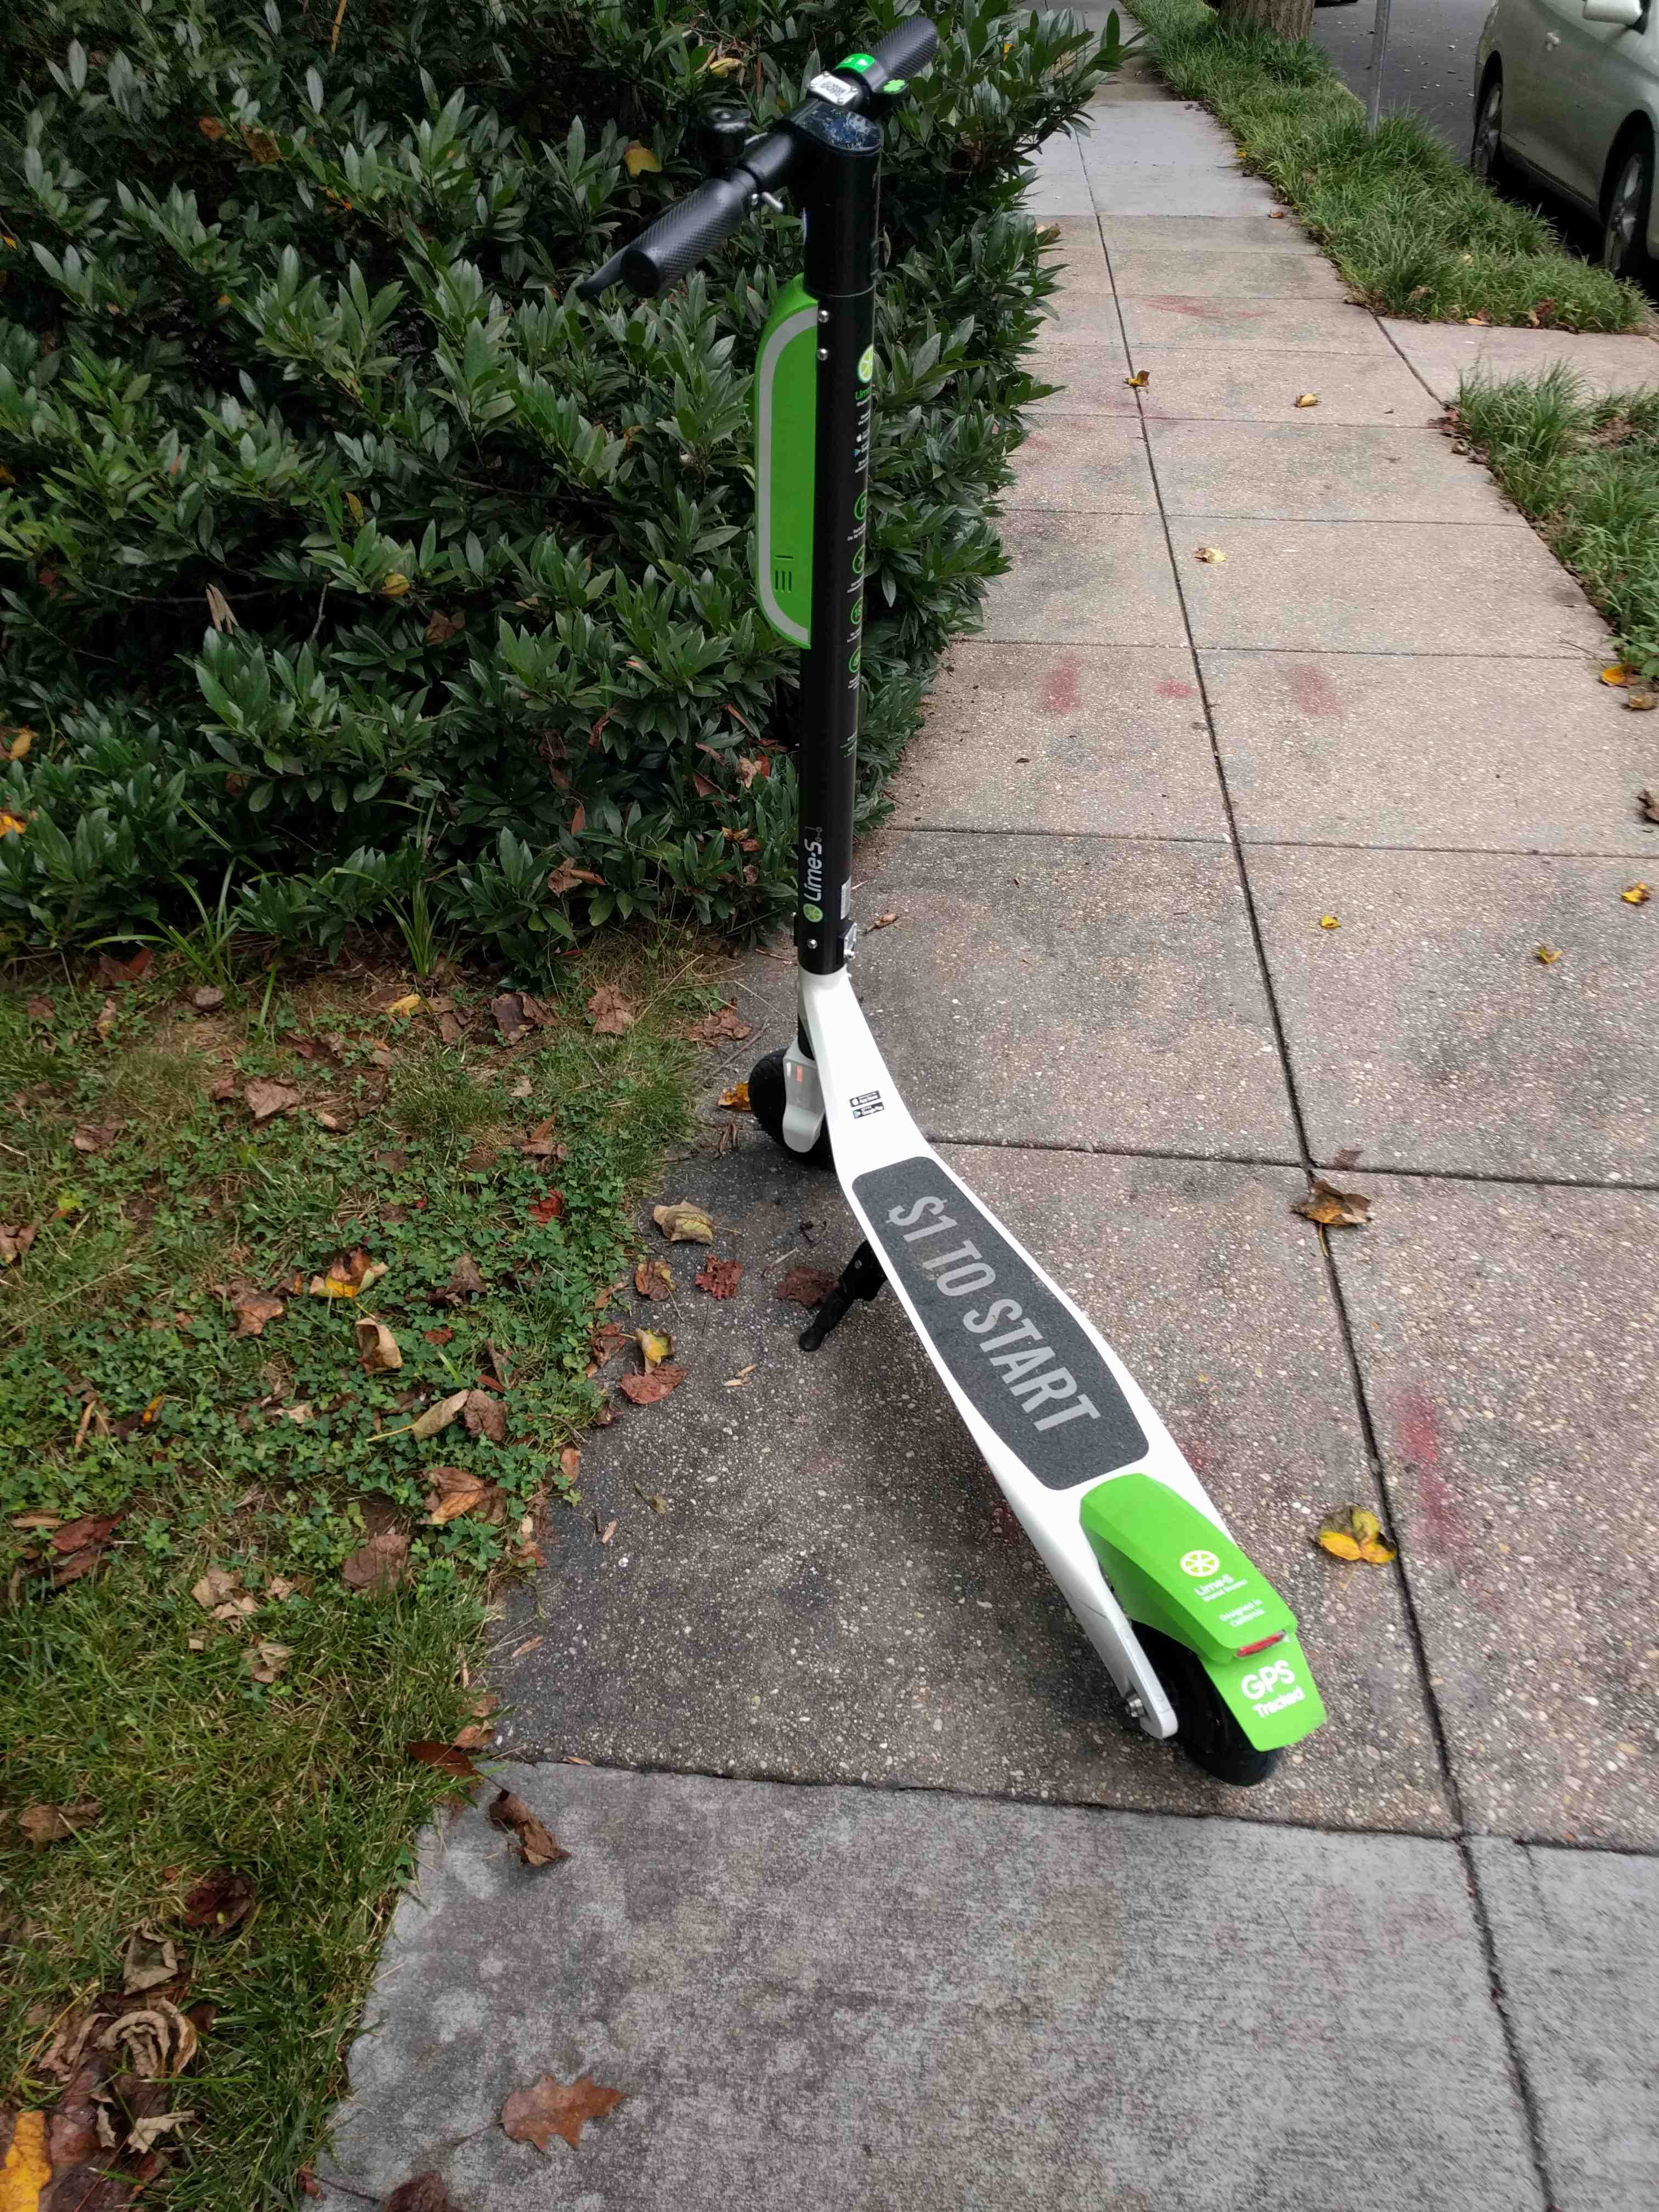scooter: (579, 31, 1352, 1811)
